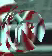Don't turn right: (0, 3, 47, 55)
